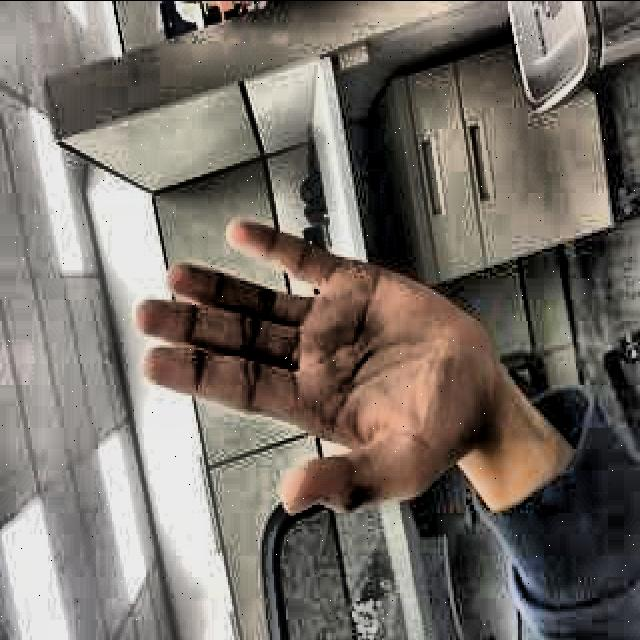not-gloved: (122, 198, 515, 536)
